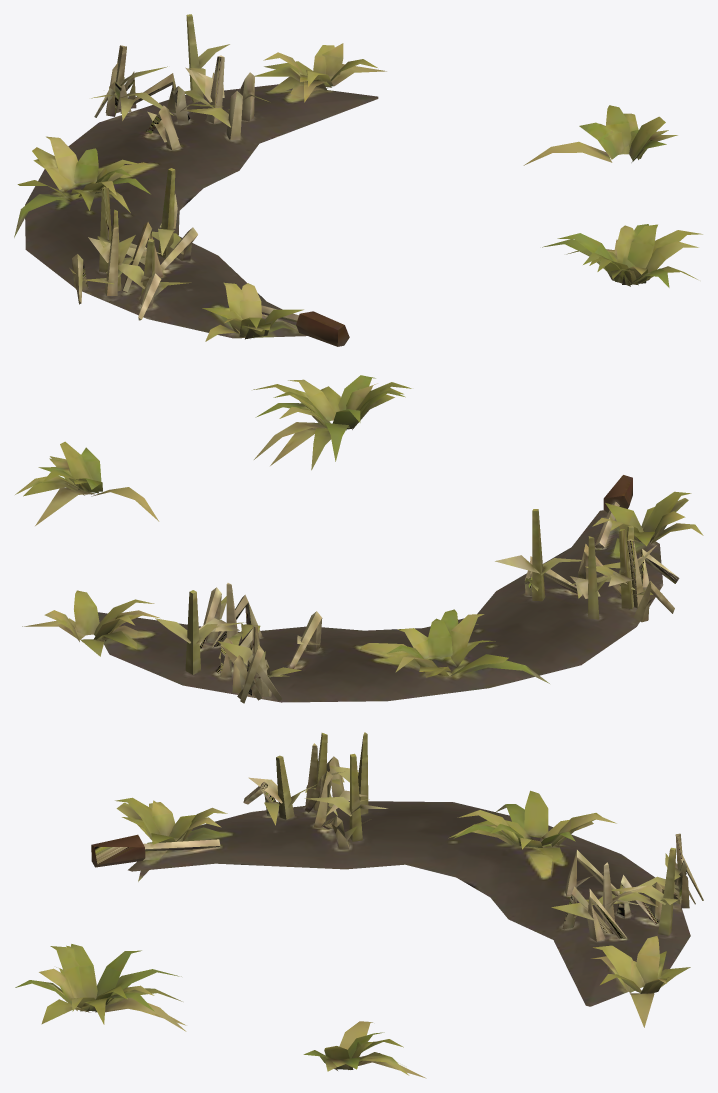
The model's file is rough-marsh-3.low.glb.
3 views of the same model, one above another, from view 1: azimuth 30°, elevation 25°; view 2: azimuth 150°, elevation 25°; view 3: azimuth 270°, elevation 25° (orthographic).
Visible parts, largest first — view 1: rough-marsh-3; view 2: rough-marsh-3; view 3: rough-marsh-3.
Part boxes in pixels (<box>): rough-marsh-3: <box>14,14,702,346</box>; rough-marsh-3: <box>15,375,703,703</box>; rough-marsh-3: <box>15,732,703,1078</box>.
Bounding box in the file's own units: 1.54 × 0.2487 × 1.52.
1 material, 1 textured.
